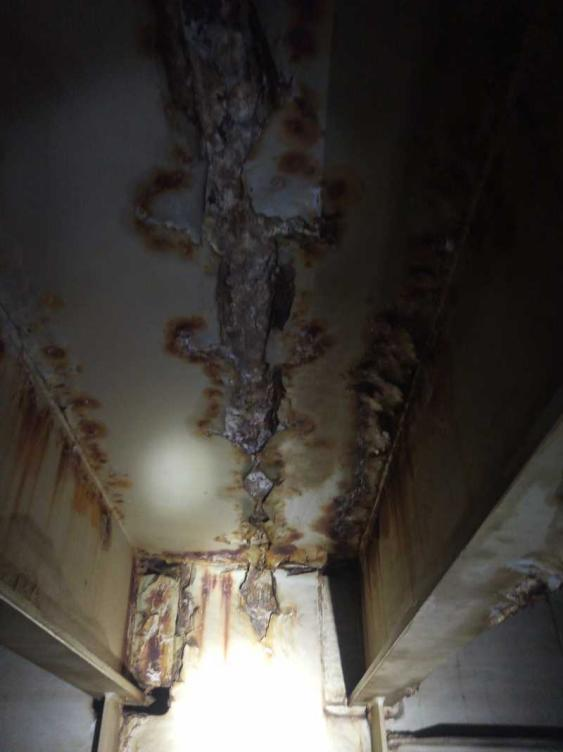corrosion: (129, 2, 360, 257), (160, 267, 323, 558), (13, 385, 142, 561), (124, 556, 193, 694), (187, 563, 281, 654), (5, 319, 76, 370)
